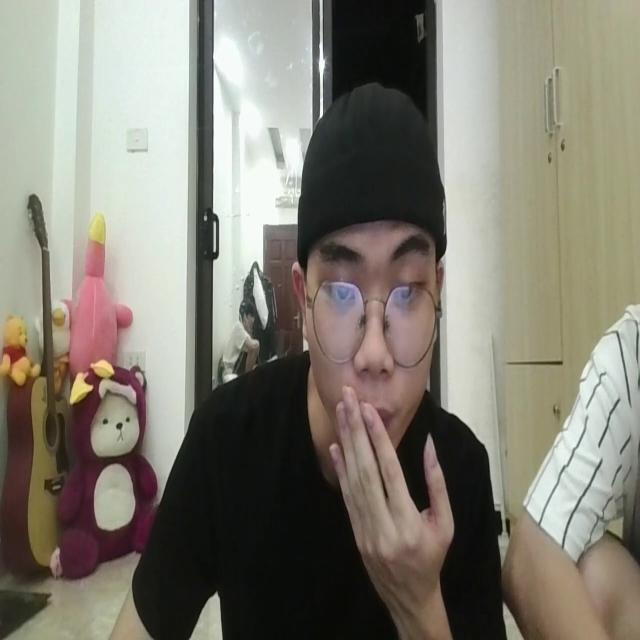extra_person: (503, 268, 640, 639)
student: (113, 77, 500, 640)
